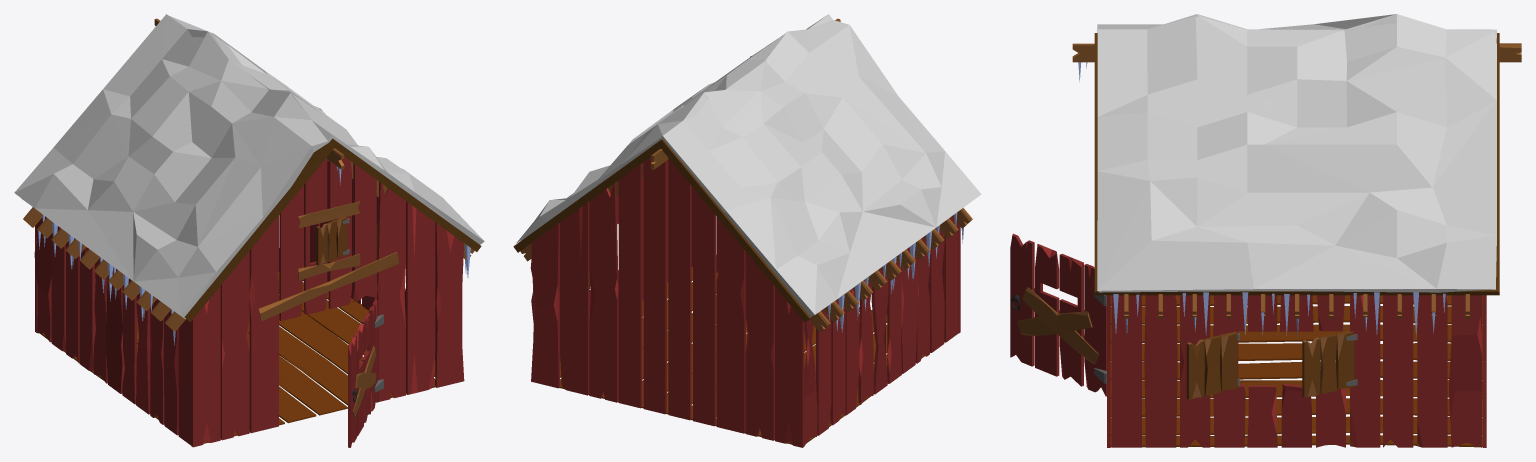
File: House_04_Merged.fbx
3 views of the same model, side by side, from view 1: azimuth 30°, elevation 25°; view 2: azimuth 150°, elevation 25°; view 3: azimuth 270°, elevation 25° (orthographic). The views are drawn at different scales.
Visible parts, largest first — view 1: House_04_Merged; view 2: House_04_Merged; view 3: House_04_Merged.
Part boxes in pixels (left/top/right/bottom): House_04_Merged: left=14, top=14, right=484, bottom=447; House_04_Merged: left=513, top=14, right=981, bottom=447; House_04_Merged: left=1010, top=14, right=1521, bottom=447.
Bounding box in the file's own units: 347 × 312 × 408.
